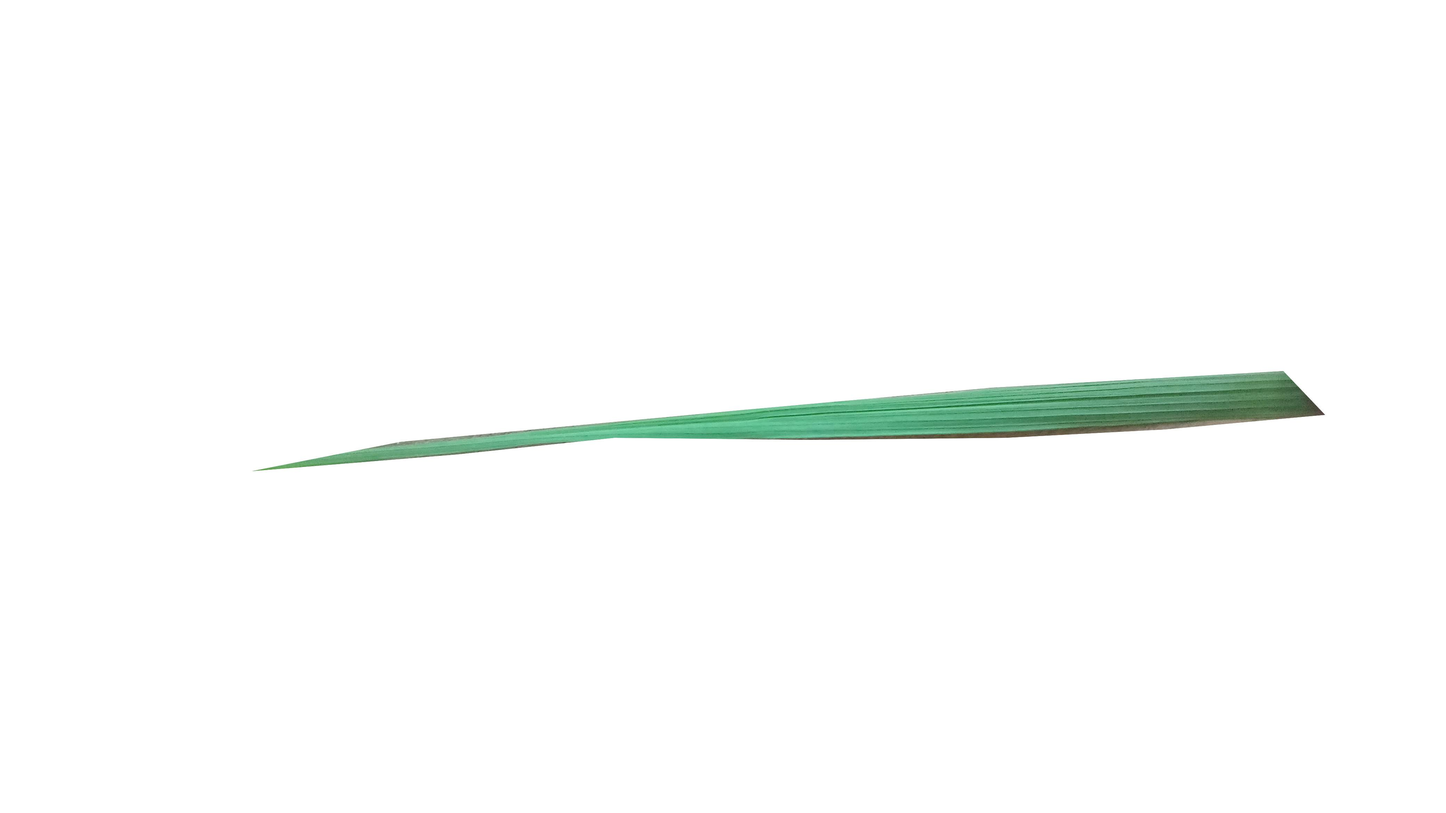Healthy: (260, 373, 1323, 474)
